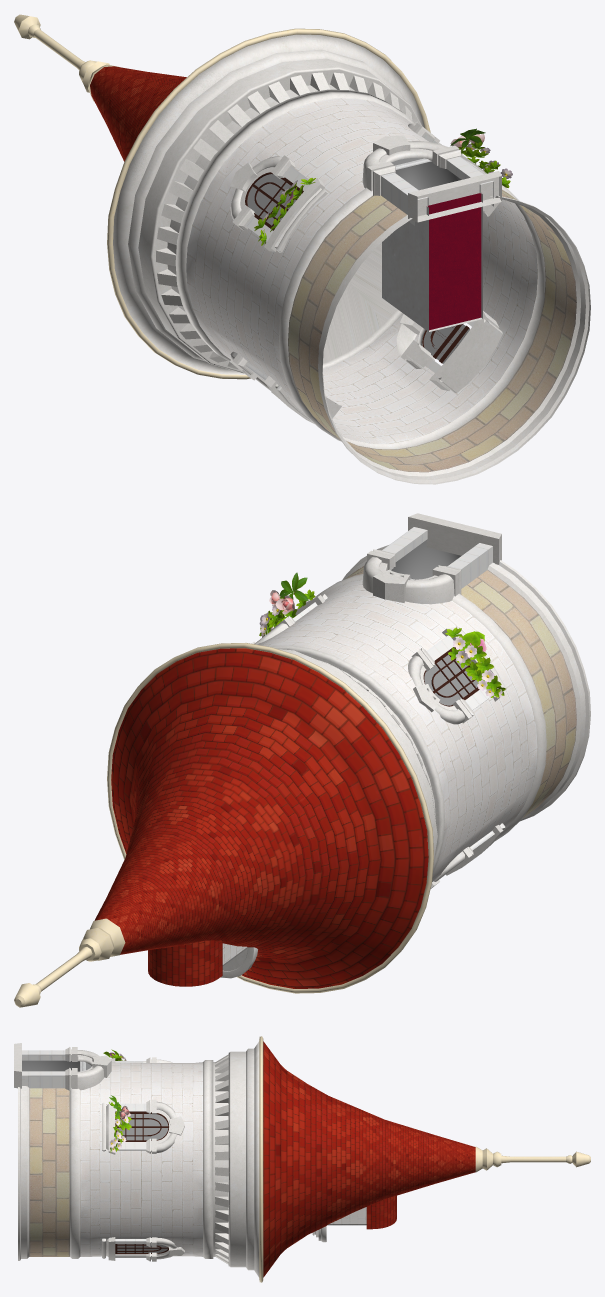
The model's file is Tower000.obj.
3 renders of one model, top to bottom at view 1: azimuth 30°, elevation 25°; view 2: azimuth 150°, elevation 25°; view 3: azimuth 270°, elevation 25°, orthographic. The views are drawn at different scales.
Parts seen in each view (by area): view 1: Tower__Stone00_AT, Tower__Brick00_AT, Tower__Brick01_AT, Tower__Velvet00, Tower__GoldDeco01, Tower__Stone04_AT, Tower__MarbleWhite00NonDps, Tower__Roof02_AT, Tower__BrickWindow01_SR, Tower__GlassWindow00, Tower__Black00, Tower__LeafSimple00 (+1 smaller); view 2: Tower__Roof02_AT, Tower__Brick00_AT, Tower__Stone00_AT, Tower__Brick01_AT, Tower__GoldDeco01, Tower__BrickWindow01_SR, Tower__LeafSimple00, Tower__GlassWindow00, Tower__Black00, Tower__Flower00_SR, Tower__Bronze00_SR; view 3: Tower__Roof02_AT, Tower__Stone00_AT, Tower__Brick00_AT, Tower__Brick01_AT, Tower__GoldDeco01, Tower__Stone04_AT, Tower__BrickWindow01_SR, Tower__GlassWindow00, Tower__Bronze00_SR, Tower__Black00, Tower__LeafSimple00.
Part boxes in pixels (left/top/right/bottom): Tower__Stone00_AT: left=113, top=34, right=590, bottom=484; Tower__Brick00_AT: left=186, top=98, right=537, bottom=443; Tower__Brick01_AT: left=288, top=189, right=576, bottom=472; Tower__Velvet00: left=427, top=193, right=481, bottom=330; Tower__GoldDeco01: left=14, top=14, right=430, bottom=379; Tower__Stone04_AT: left=156, top=72, right=418, bottom=368; Tower__MarbleWhite00NonDps: left=382, top=158, right=482, bottom=331; Tower__Roof02_AT: left=90, top=66, right=186, bottom=161; Tower__BrickWindow01_SR: left=246, top=134, right=493, bottom=380; Tower__GlassWindow00: left=247, top=174, right=469, bottom=363; Tower__Black00: left=391, top=158, right=461, bottom=190; Tower__LeafSimple00: left=254, top=142, right=510, bottom=245; Tower__Roof02_AT: left=94, top=648, right=428, bottom=988; Tower__Brick00_AT: left=222, top=580, right=537, bottom=966; Tower__Stone00_AT: left=220, top=513, right=590, bottom=978; Tower__Brick01_AT: left=344, top=566, right=576, bottom=817; Tower__GoldDeco01: left=14, top=643, right=433, bottom=1007; Tower__BrickWindow01_SR: left=292, top=527, right=494, bottom=850; Tower__LeafSimple00: left=259, top=589, right=505, bottom=697; Tower__GlassWindow00: left=424, top=654, right=478, bottom=705; Tower__Black00: left=391, top=540, right=461, bottom=579; Tower__Flower00_SR: left=259, top=604, right=502, bottom=698; Tower__Bronze00_SR: left=423, top=647, right=479, bottom=706; Tower__Roof02_AT: left=263, top=1041, right=475, bottom=1277; Tower__Stone00_AT: left=14, top=1041, right=326, bottom=1277; Tower__Brick00_AT: left=80, top=1062, right=366, bottom=1256; Tower__Brick01_AT: left=29, top=1088, right=69, bottom=1256; Tower__GoldDeco01: left=259, top=1036, right=590, bottom=1282; Tower__Stone04_AT: left=214, top=1054, right=228, bottom=1264; Tower__BrickWindow01_SR: left=22, top=1050, right=146, bottom=1257; Tower__GlassWindow00: left=117, top=1114, right=168, bottom=1252; Tower__Bronze00_SR: left=115, top=1111, right=168, bottom=1254; Tower__Black00: left=22, top=1060, right=91, bottom=1071; Tower__LeafSimple00: left=109, top=1053, right=131, bottom=1152.
Size of the model in its own units: 1204 by 1204 by 2825.
19 materials, 16 textured.
